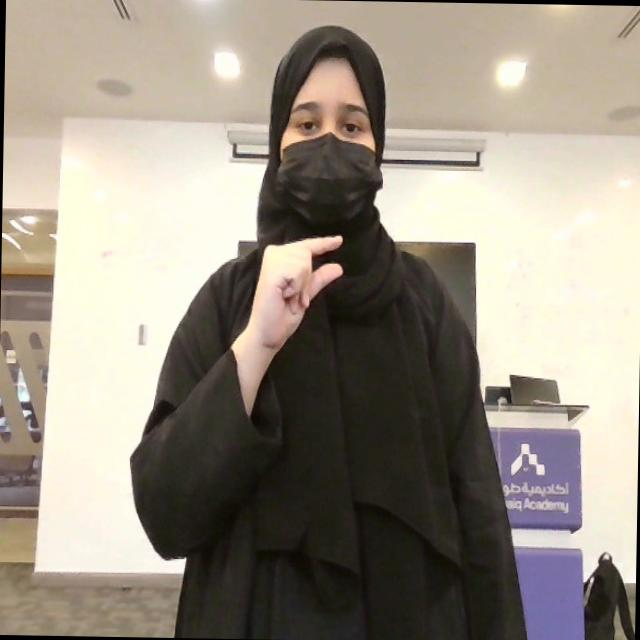fasting: (248, 231, 344, 350)
